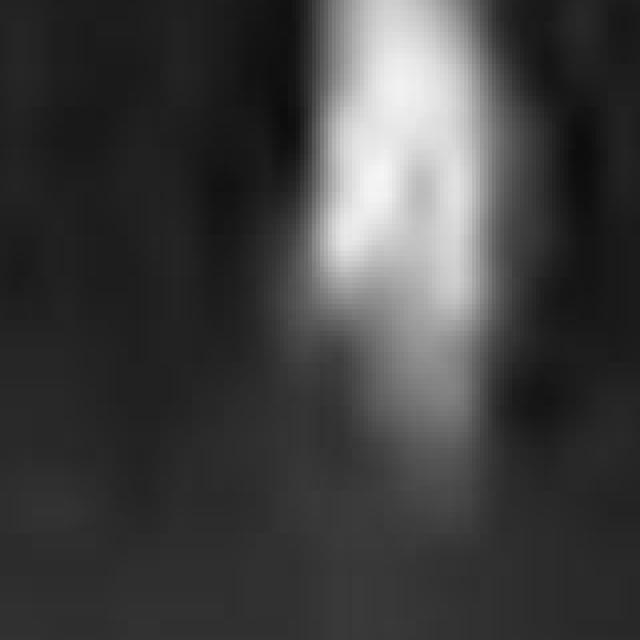person: (289, 1, 545, 540)
